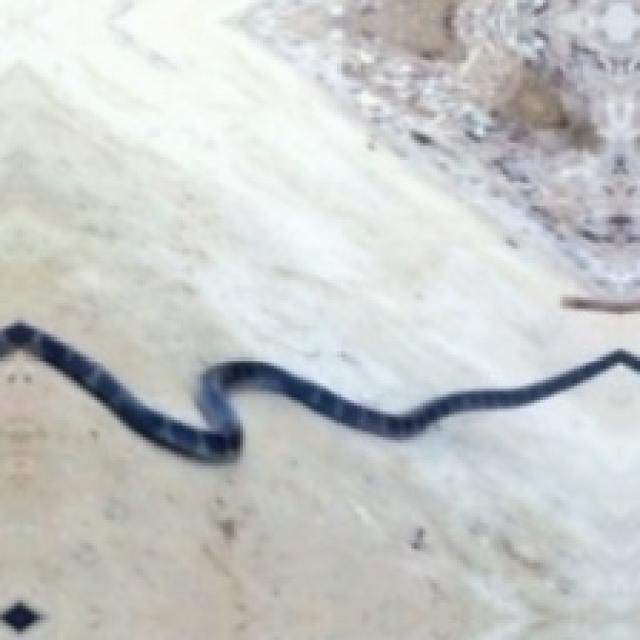king cobra: (0, 323, 637, 460)
